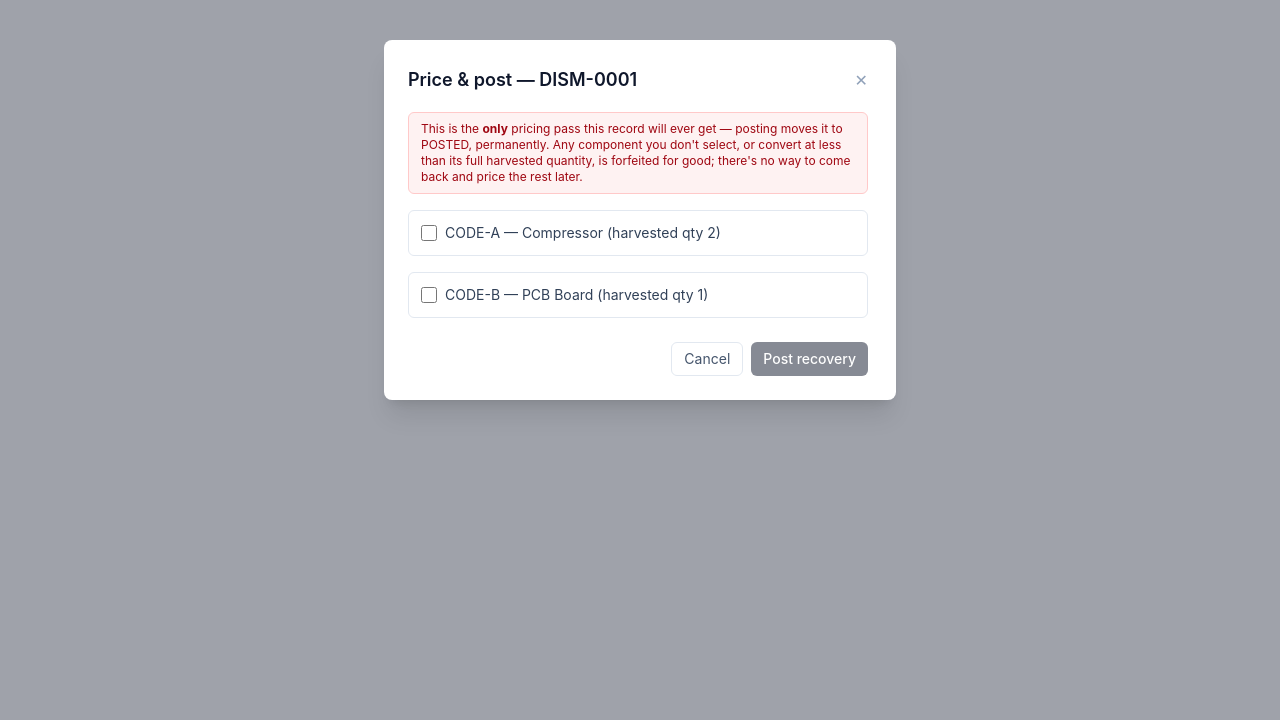
Scenario: PriceAndPostModal - 409 handling (the-fool finding #3) › shows the distinct reload-and-retry message on a 409, and keeps the typed values
The image size is (1280, 720).
Click the checkbox labelled "CODE-A — Compressor (harvested qty 2)": click(429, 233) left=421, top=225, right=437, bottom=241
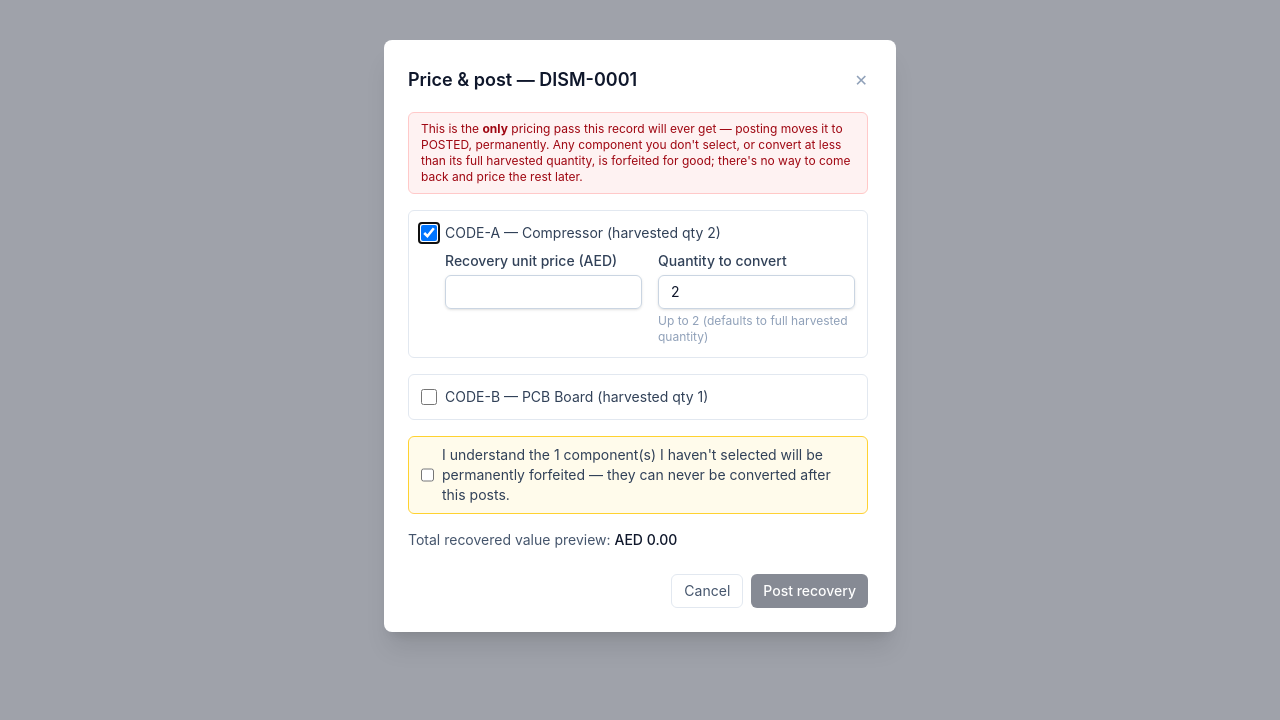
Click the checkbox labelled "CODE-B — PCB Board (harvested qty 1)": click(429, 397) left=421, top=389, right=437, bottom=405
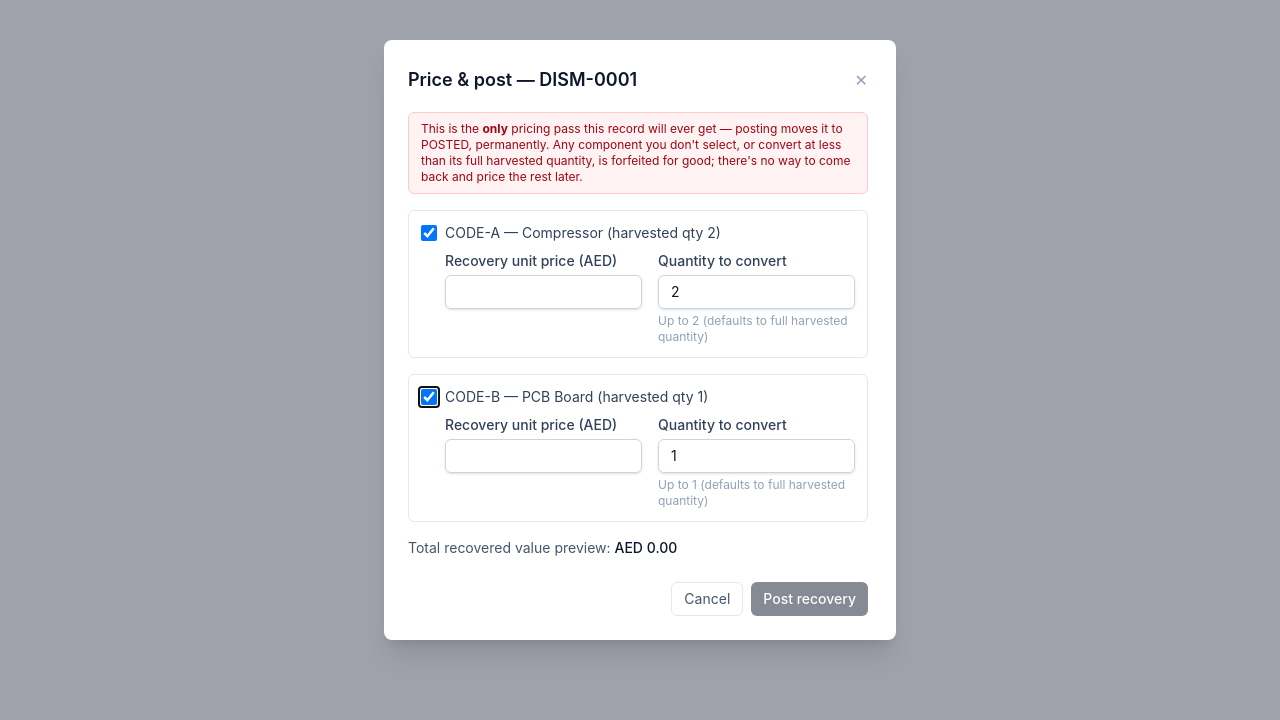
In the number field labelled "Recovery unit price (AED)" below "CODE-A — Compressor (harvested qty 2)": (544, 292) left=445, top=275, right=642, bottom=309, type "85"
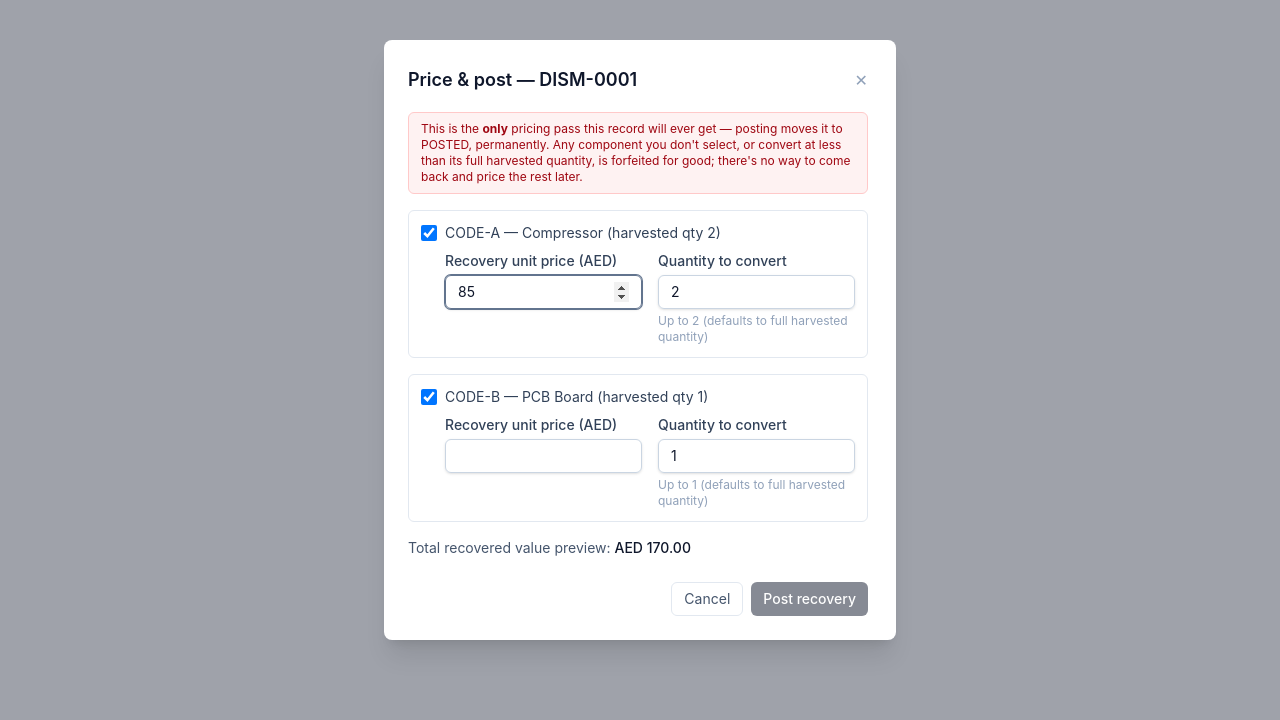
In the number field labelled "Recovery unit price (AED)" below "CODE-B — PCB Board (harvested qty 1)": (544, 456) left=445, top=439, right=642, bottom=473, type "40"
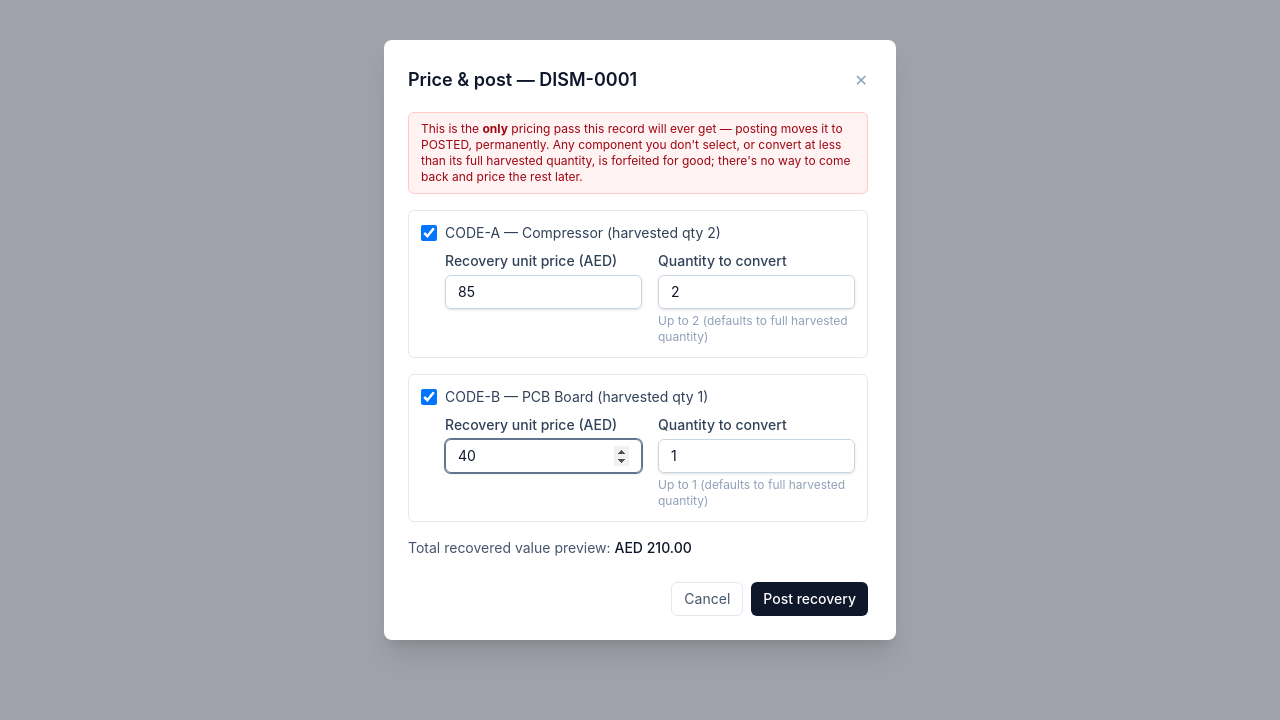
Click the button "Post recovery": click(810, 599) left=751, top=582, right=868, bottom=616
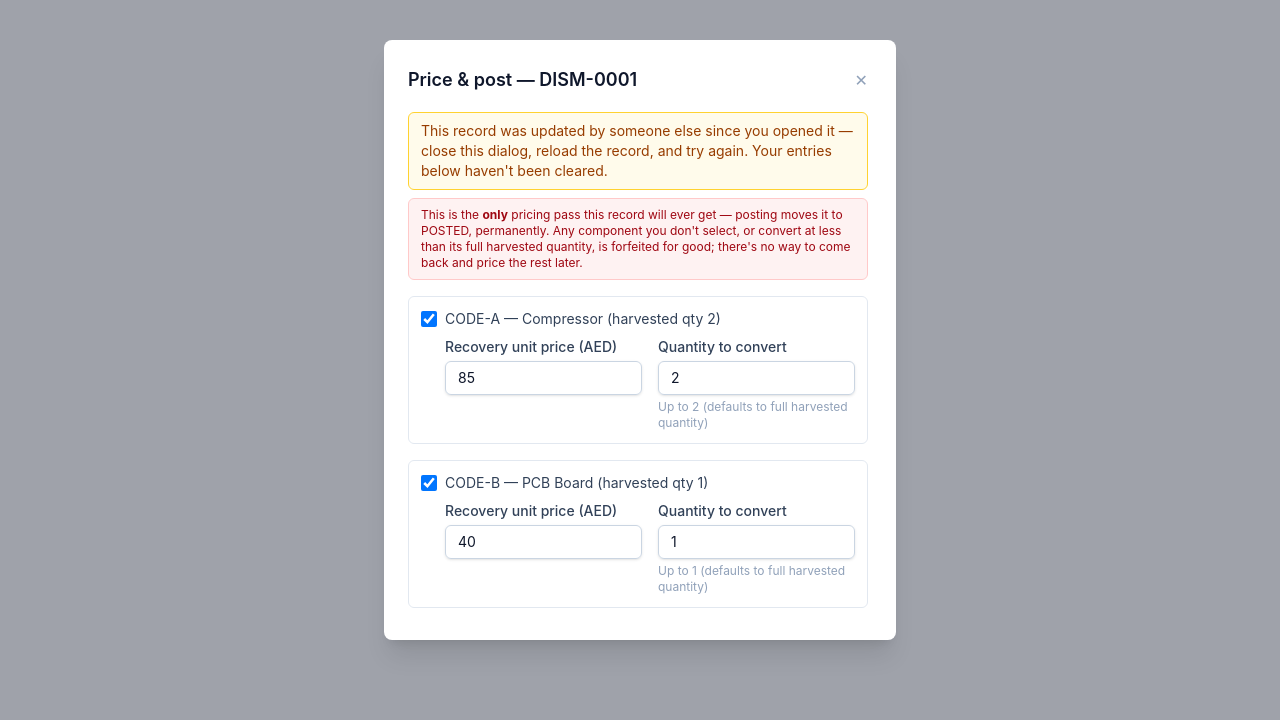
Check: the text "updated by someone else since you opened it" is shown, box left=421, top=122, right=853, bottom=179
